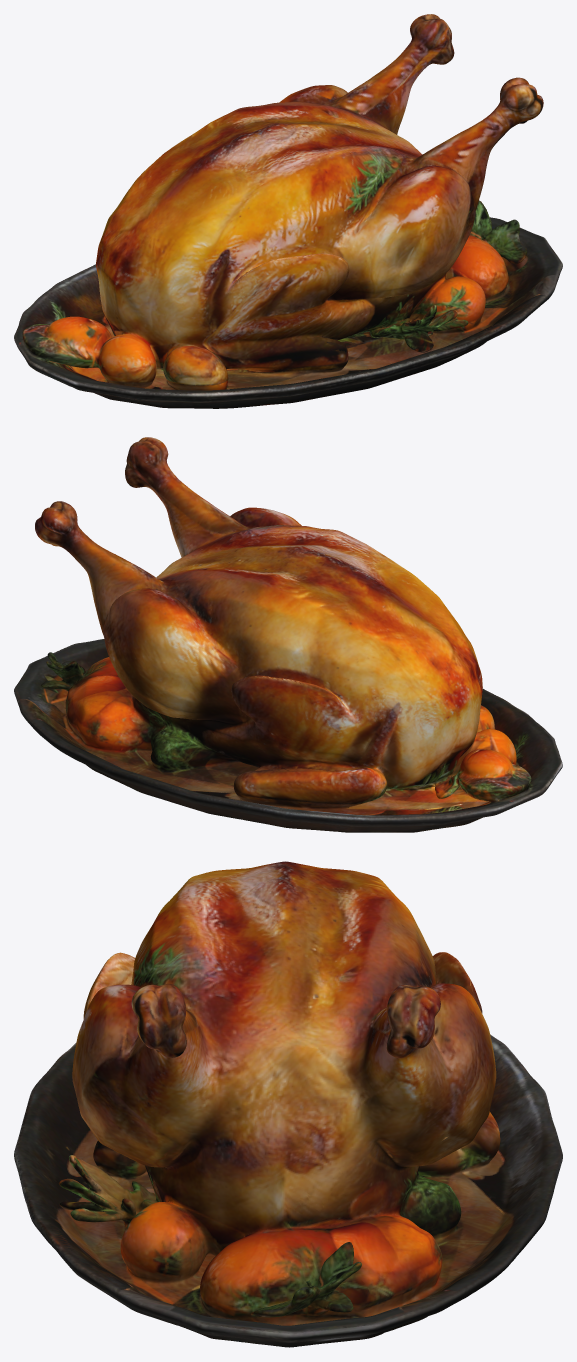
Rendered from roasted_chicken.glb.
3 views of the same model, one above another, from view 1: azimuth 30°, elevation 25°; view 2: azimuth 150°, elevation 25°; view 3: azimuth 270°, elevation 25° (orthographic). The views are drawn at different scales.
Parts seen in each view (by area): view 1: Mesh1_Mesh1.067; view 2: Mesh1_Mesh1.067; view 3: Mesh1_Mesh1.067.
Boxes of the visible parts, left/top/right/bottom form: Mesh1_Mesh1.067: left=14, top=14, right=562, bottom=408; Mesh1_Mesh1.067: left=14, top=437, right=562, bottom=832; Mesh1_Mesh1.067: left=14, top=861, right=562, bottom=1347.
Size of the model in its own units: 2 by 0.8791 by 1.29.
Materials: 1 (1 with a texture image).
